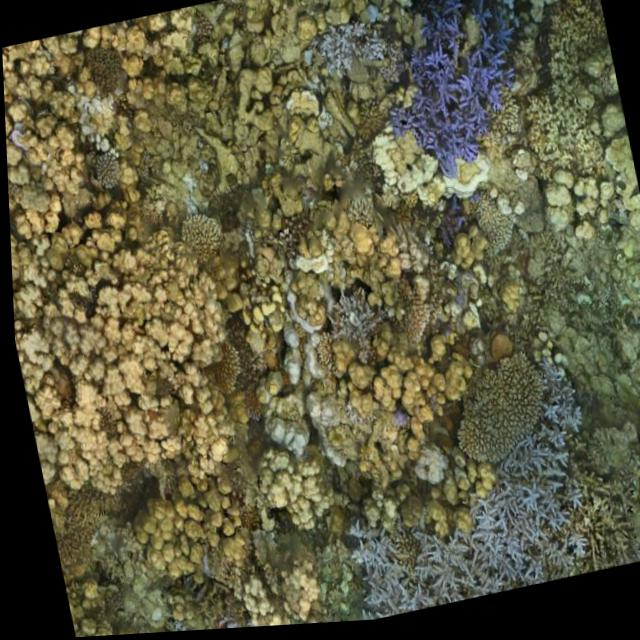Bleached Coral: (350, 487, 612, 624), (308, 17, 395, 94)
